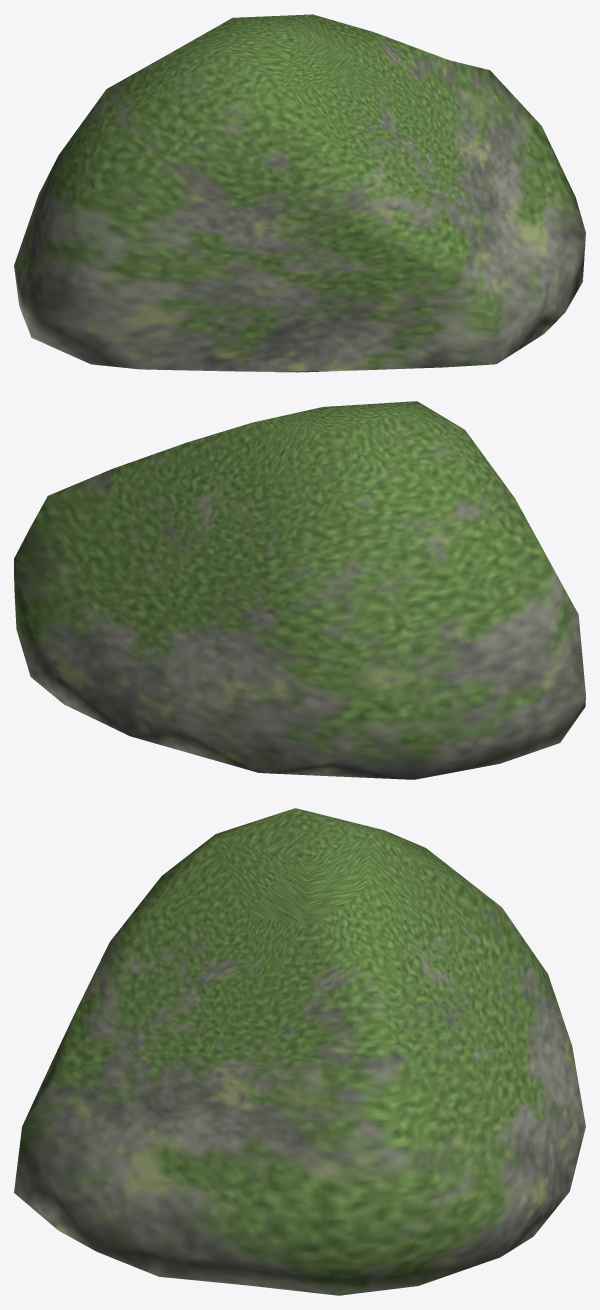
The model's file is rock_grassland_boulder_a.glb.
3 renders of one model, top to bottom at view 1: azimuth 30°, elevation 25°; view 2: azimuth 150°, elevation 25°; view 3: azimuth 270°, elevation 25°, orthographic. The views are drawn at different scales.
Visible parts, largest first — view 1: rock_grassland_boulder_a; view 2: rock_grassland_boulder_a; view 3: rock_grassland_boulder_a.
Boxes of the visible parts, bbox=[...] form: rock_grassland_boulder_a: bbox=[14, 14, 585, 372]; rock_grassland_boulder_a: bbox=[14, 401, 585, 779]; rock_grassland_boulder_a: bbox=[14, 808, 585, 1295].
Bounding box in the file's own units: 2.11 × 1.01 × 1.74.
Materials: 1 (1 with a texture image).
